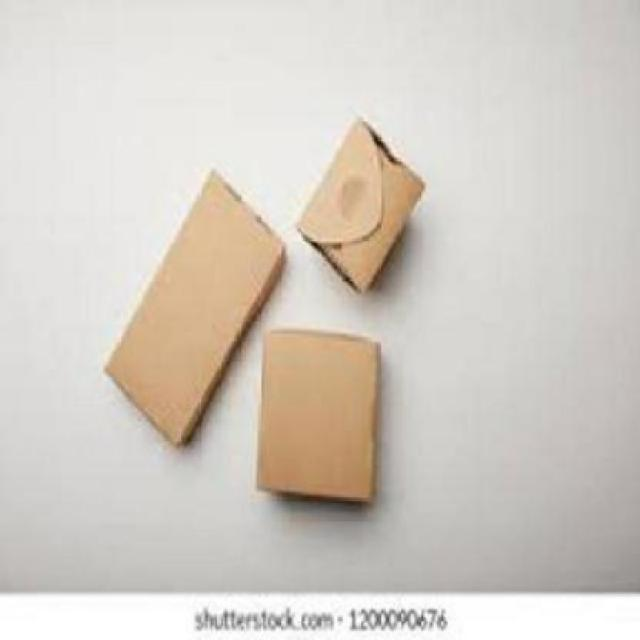box: (99, 164, 288, 442), (294, 107, 471, 301), (246, 325, 386, 509)
